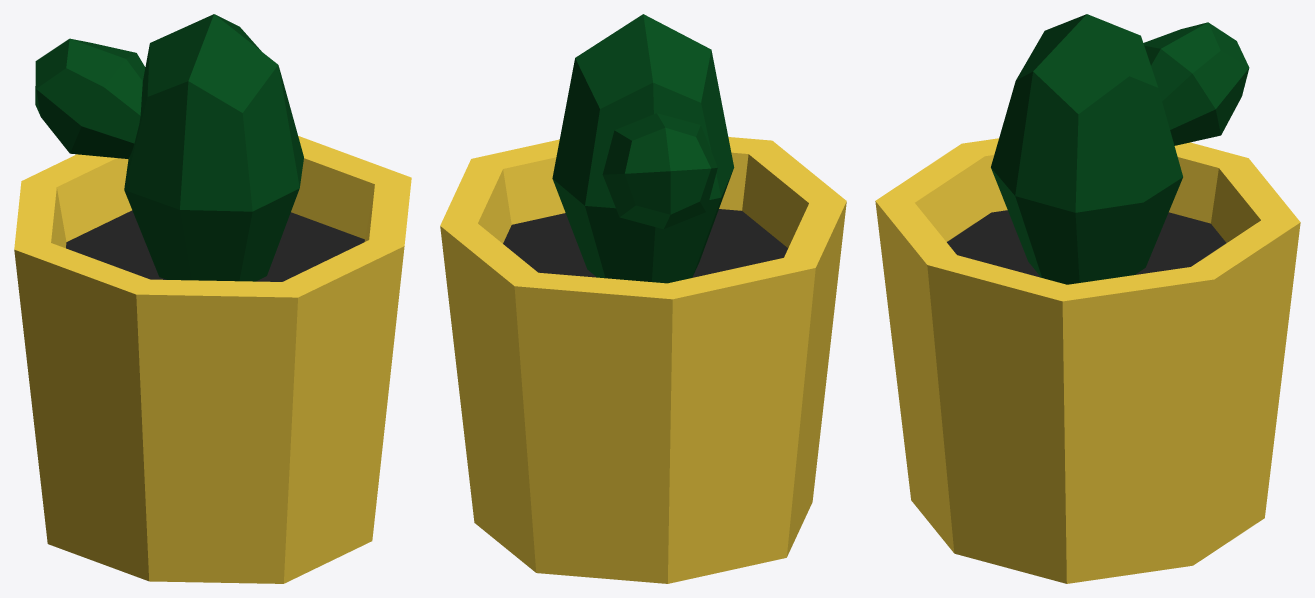
Rendered from Plant_Kitchen_Plant4_231109.glb.
3 views of the same model, side by side, from view 1: azimuth 30°, elevation 25°; view 2: azimuth 150°, elevation 25°; view 3: azimuth 270°, elevation 25° (orthographic).
Visible parts, largest first — view 1: Kitchen_Plant4; view 2: Kitchen_Plant4; view 3: Kitchen_Plant4.
Part boxes in pixels (x1,y1,x2,y2): Kitchen_Plant4: (14, 14, 411, 583); Kitchen_Plant4: (440, 14, 846, 583); Kitchen_Plant4: (875, 14, 1300, 583).
Size of the model in its own units: 0.216 by 0.2777 by 0.216.
Materials: 1 (1 with a texture image).
